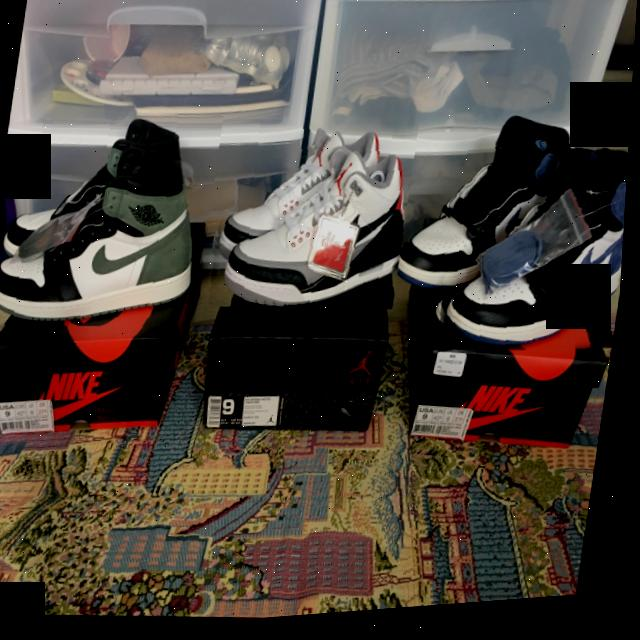shoe: (0, 98, 226, 343), (427, 139, 632, 374), (202, 109, 422, 327), (388, 108, 585, 322)
